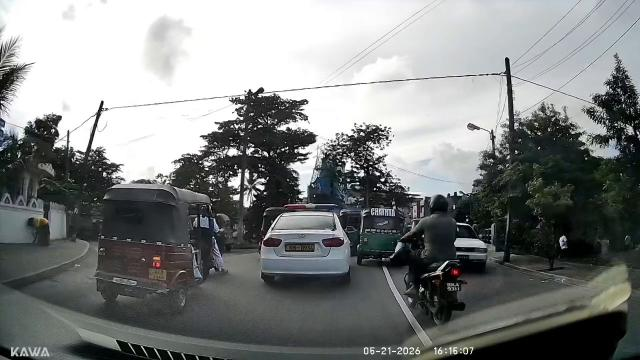illegal overtaking: (396, 202, 469, 323)
number plate: (441, 274, 466, 294)
